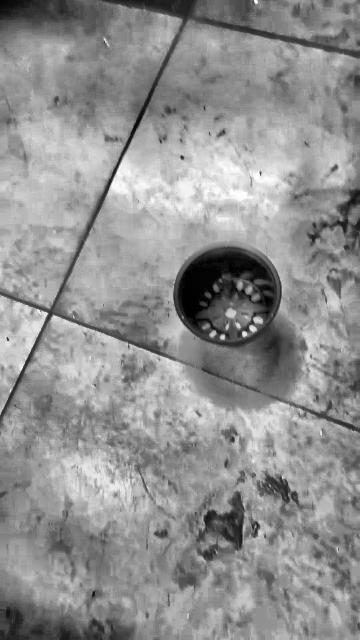pot: (174, 245, 281, 348)
